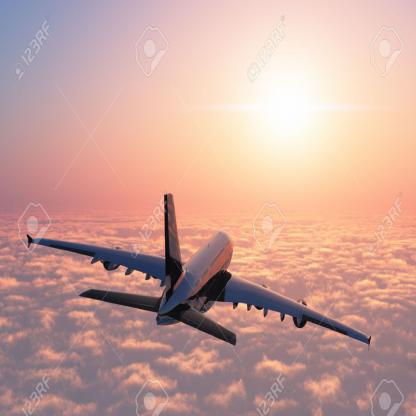CIV_Plane: (24, 186, 373, 364)
